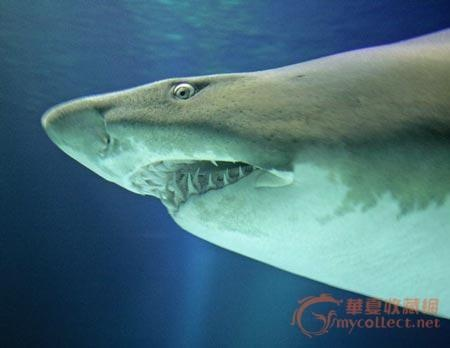fish: (49, 22, 450, 318)
